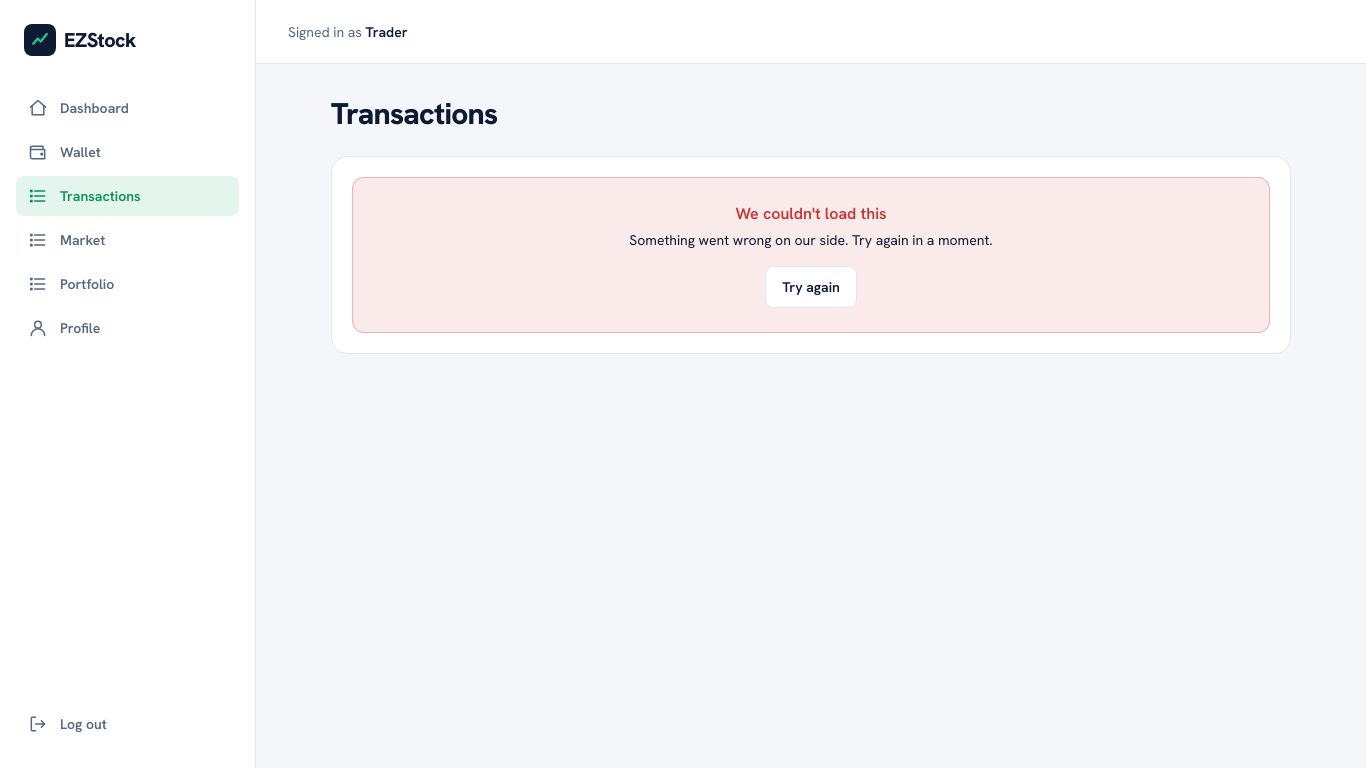
Test: transactions page › renders a friendly error and can retry
Expected: the message shows "Something went wrong on our side", [629, 231, 993, 249]
Expected: the message does not show "NullPointer", [352, 177, 1270, 333]
What coordinates should you click on to do the following:
click the button "Try again"
I would click on:
 (811, 287)
Its box is [765, 266, 857, 308].
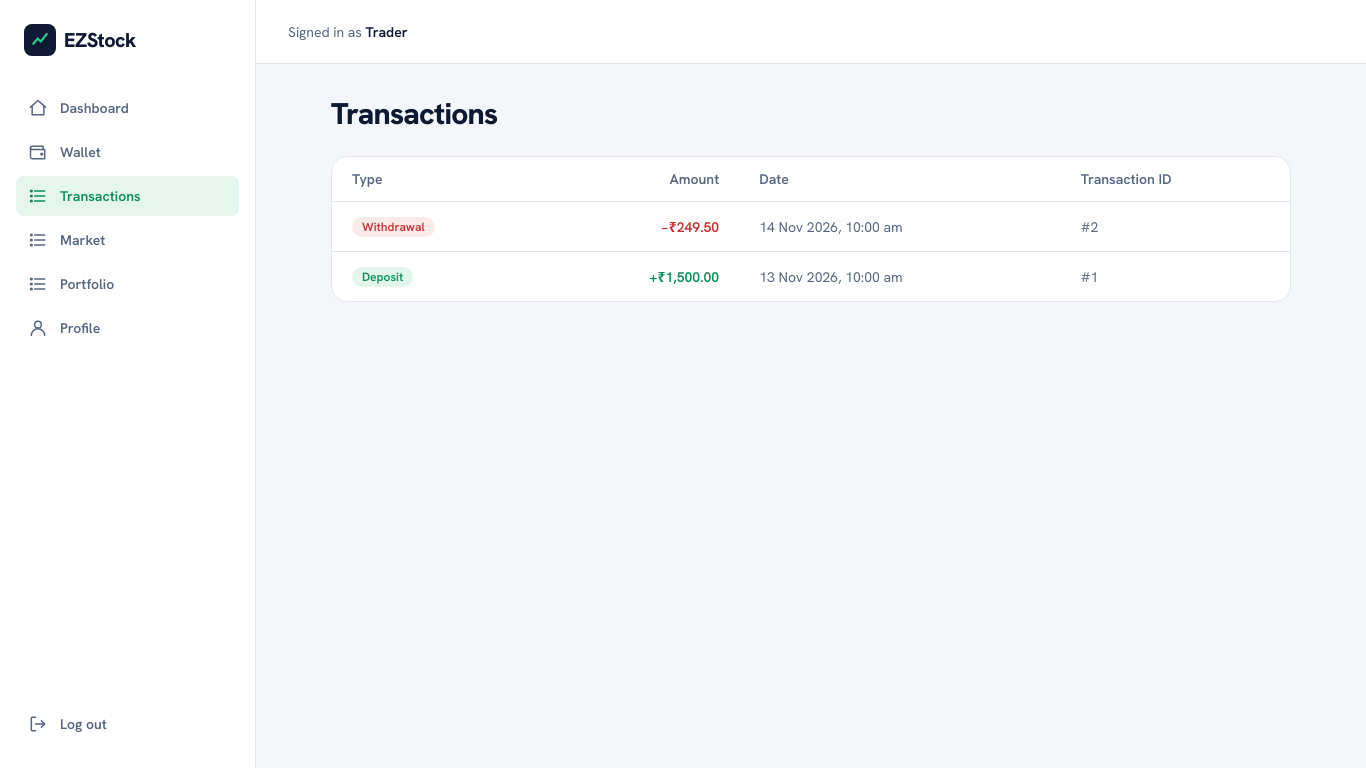
Result: the table is shown at [332, 157, 1290, 301]
